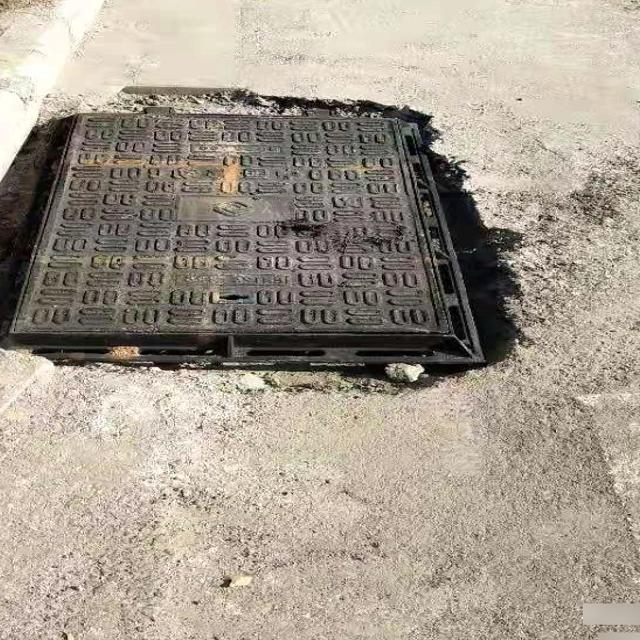circle: (0, 99, 523, 385)
